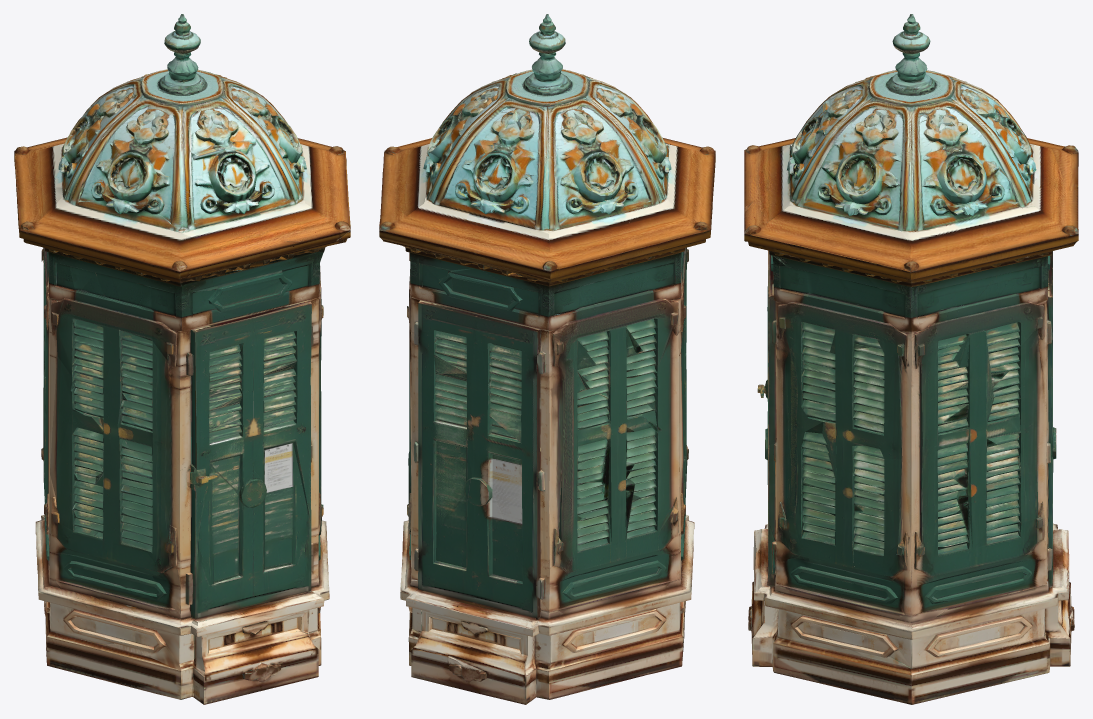
The model's file is city-kiosk.glb.
3 views of the same model, side by side, from view 1: azimuth 30°, elevation 25°; view 2: azimuth 150°, elevation 25°; view 3: azimuth 270°, elevation 25° (orthographic).
Size of the model in its own units: 1.05 by 1.9 by 0.9211.
1 material, 1 textured.
